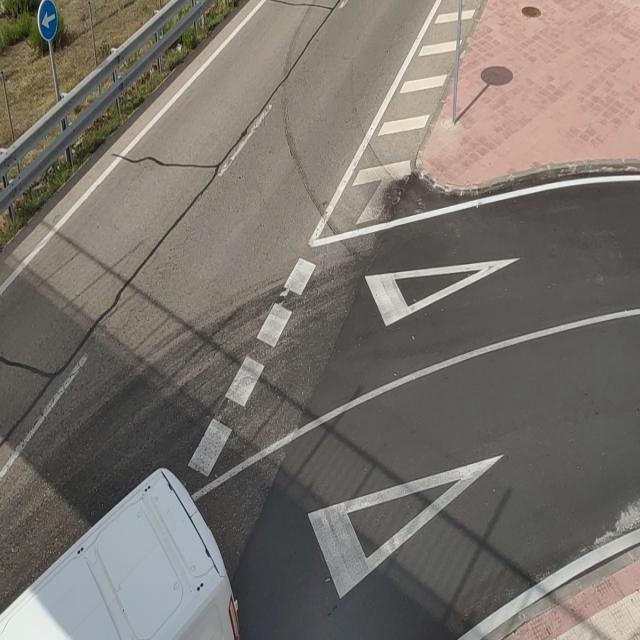Truck: (0, 466, 240, 640)
